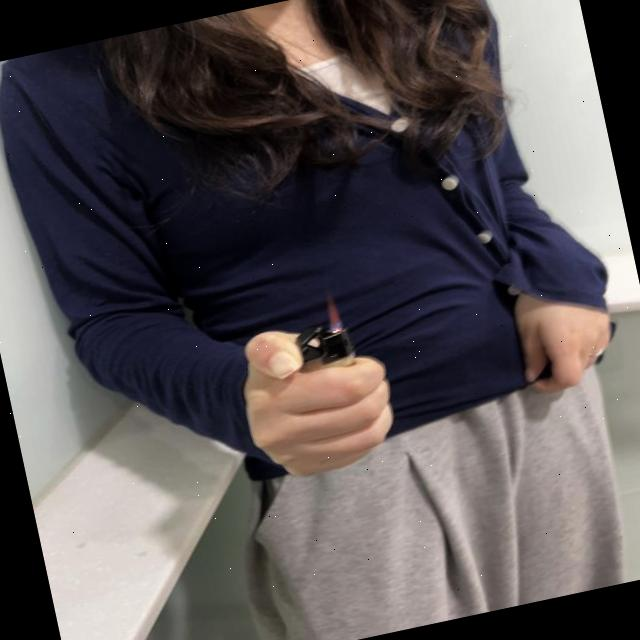fire: (320, 291, 342, 333)
